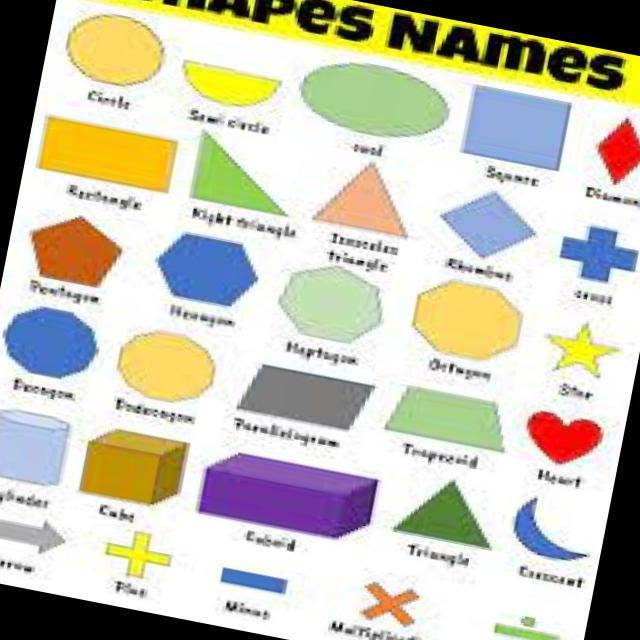circle: (288, 36, 463, 168), (110, 313, 232, 421), (53, 0, 174, 108)
cross: (103, 506, 182, 600), (350, 555, 425, 640)
square: (458, 60, 585, 192), (25, 110, 184, 212)
triangle: (196, 110, 296, 256), (318, 128, 419, 270)
